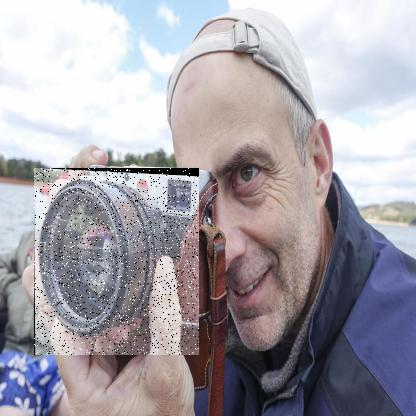Camera: (36, 169, 202, 357)
